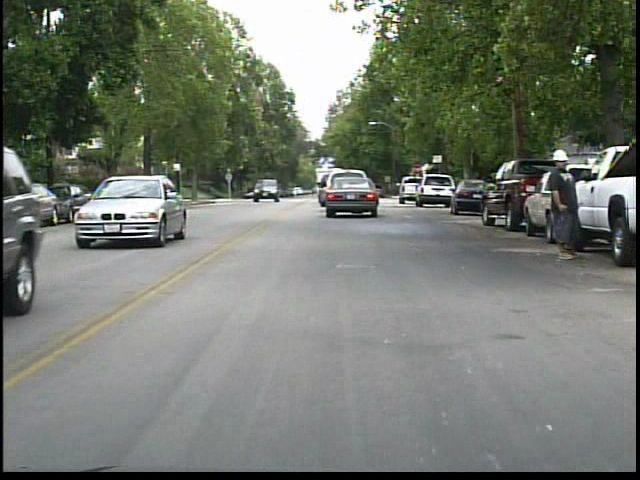person: (541, 143, 585, 265)
